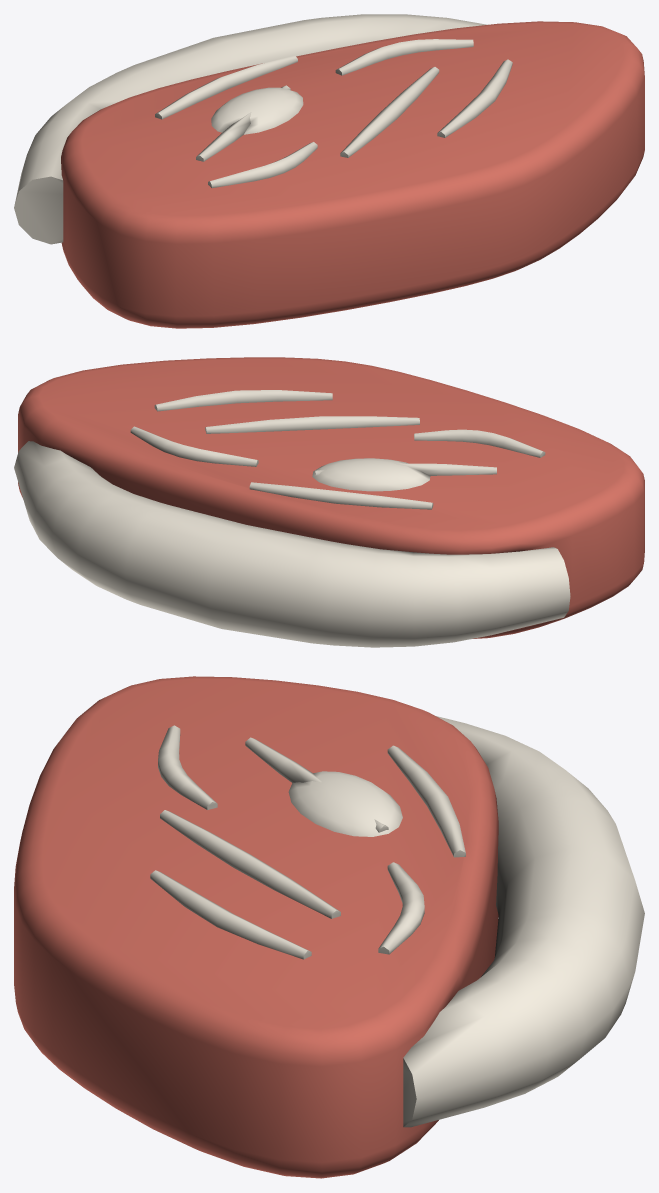
File: food_beef.glb
3 renders of one model, top to bottom at view 1: azimuth 30°, elevation 25°; view 2: azimuth 150°, elevation 25°; view 3: azimuth 270°, elevation 25°, orthographic. The views are drawn at different scales.
Parts seen in each view (by area): view 1: PART; view 2: PART; view 3: PART.
Part boxes in pixels (<box>): PART: <box>14,14,644,328</box>; PART: <box>14,357,644,647</box>; PART: <box>14,676,644,1178</box>.
Size of the model in its own units: 0.2731 by 0.054 by 0.1909.
